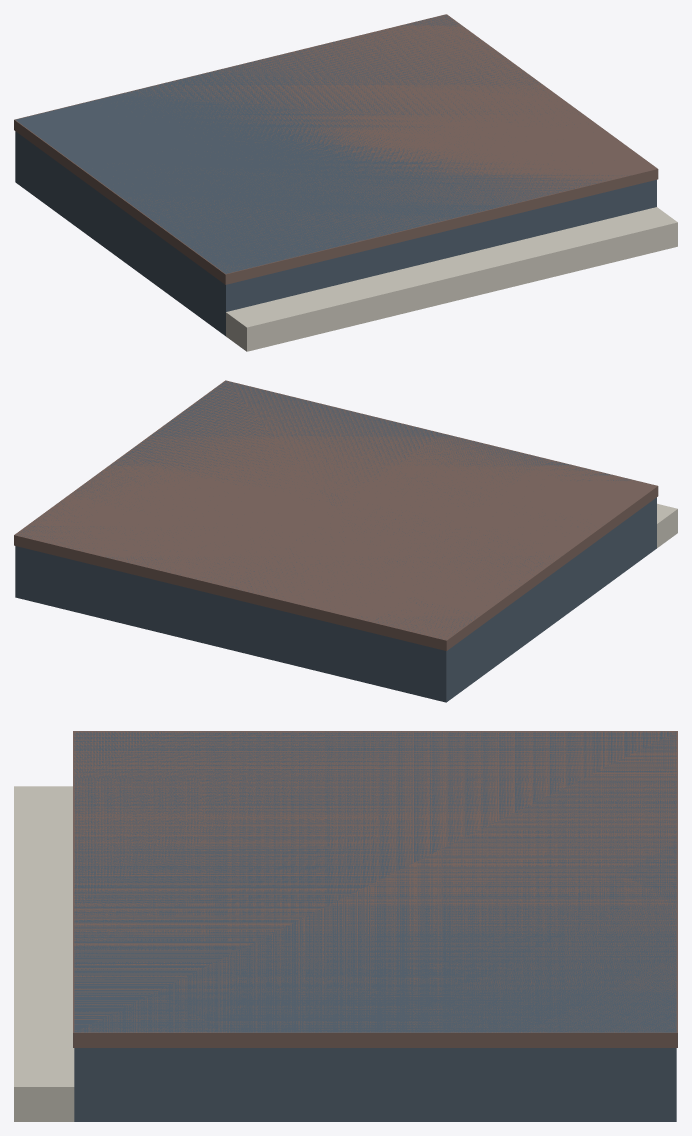
Rendered from brick-floor.skyline-v2.lod2.glb.
The picture shows the model from 3 angles, top to bottom: view 1: azimuth 30°, elevation 25°; view 2: azimuth 150°, elevation 25°; view 3: azimuth 270°, elevation 25°; orthographic projection. The views are drawn at different scales.
Visible parts, largest first — view 1: brick-floor; view 2: brick-floor; view 3: brick-floor.
Part boxes in pixels (<box>): brick-floor: <box>14,14,677,351</box>; brick-floor: <box>14,380,677,702</box>; brick-floor: <box>14,731,677,1121</box>.
Bounding box in the file's own units: 26.1 × 3.6 × 24.25.
